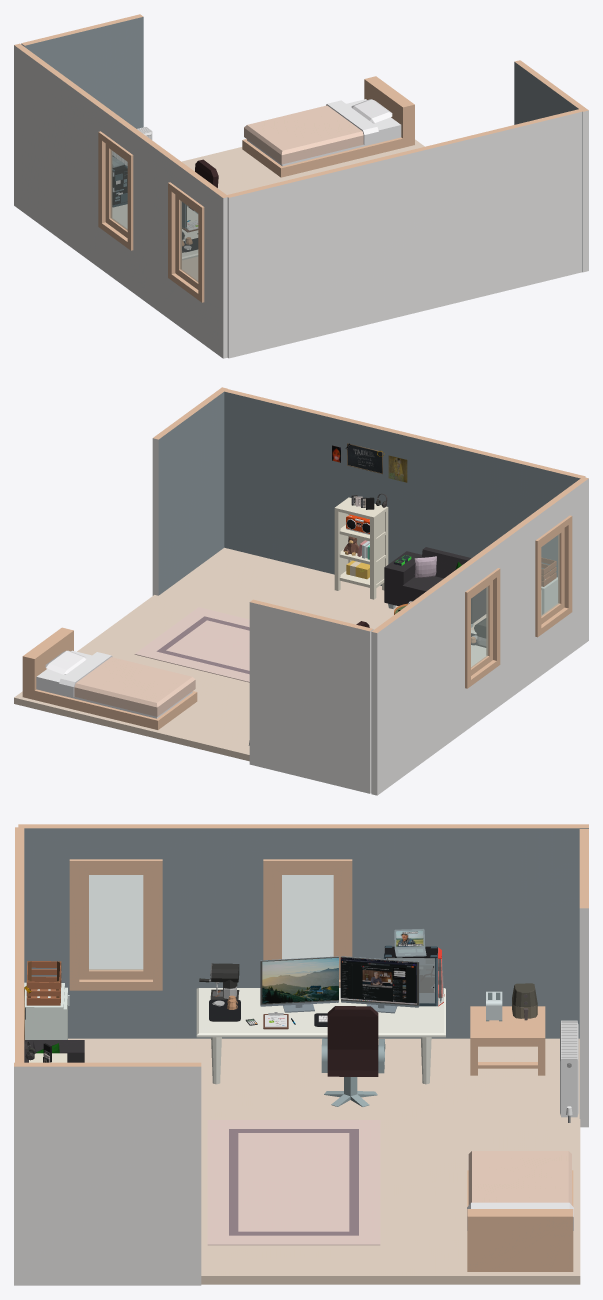
The model's file is munich.glb.
The picture shows the model from 3 angles, top to bottom: view 1: azimuth 30°, elevation 25°; view 2: azimuth 150°, elevation 25°; view 3: azimuth 270°, elevation 25°; orthographic projection. The views are drawn at different scales.
Size of the model in its own units: 3.08 by 1.29 by 3.07.
Materials: 16 (16 with a texture image).
